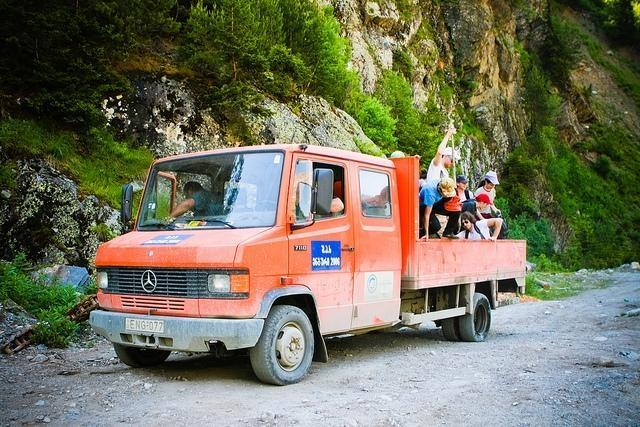truck: (88, 142, 530, 385)
